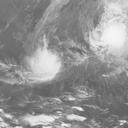cyclone: (93, 15, 127, 57), (26, 46, 60, 82)
